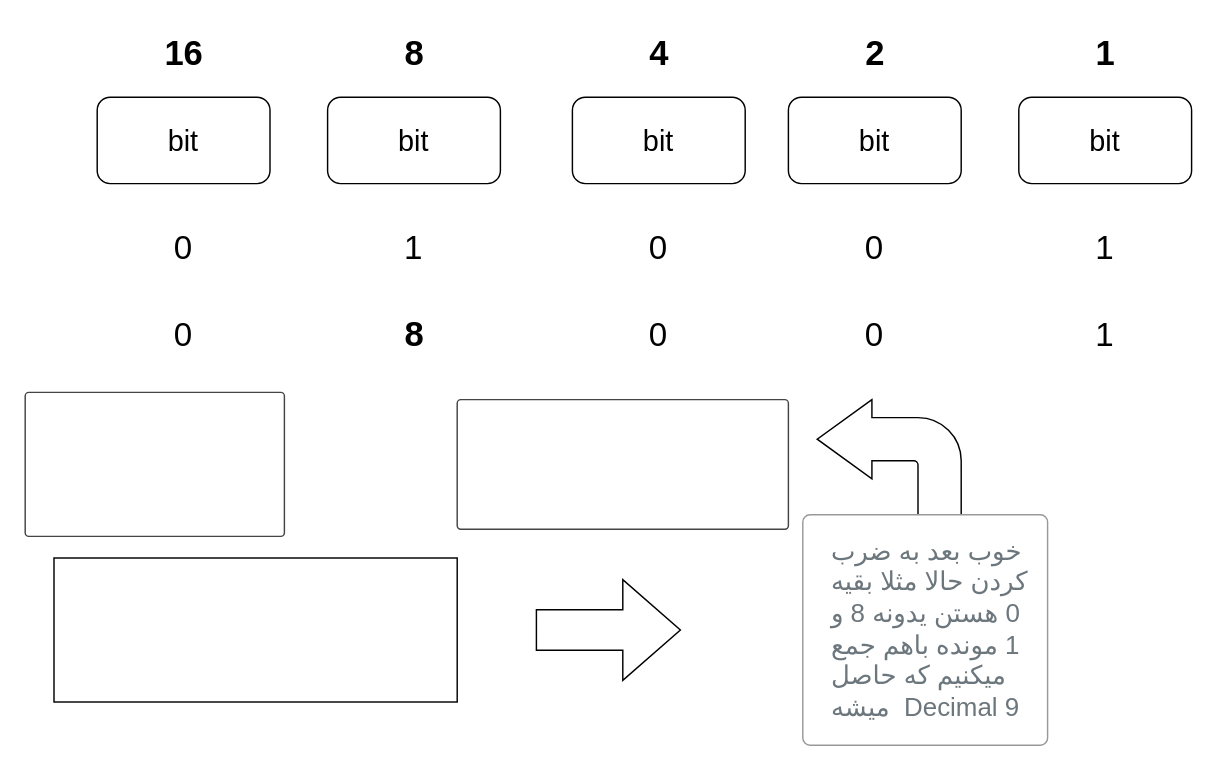
Image size: 1217x770. Some labels were removed from this diagram. The shapes that lost their labels are listed below. From the top down, each one's box as (x1, y1, x2, y2) in pixels, then its label:
(24, 391, 284, 536): بیت 16 آخرش نیست برابر 2 کنی 32 هست 64 و
(456, 398, 788, 529): 0 + 8 + 0 + 0 + 1 = 9 Decimal
(53, 557, 457, 702): خوب این 0 1 هارو به بیت های خودشون ضر میکنیم
